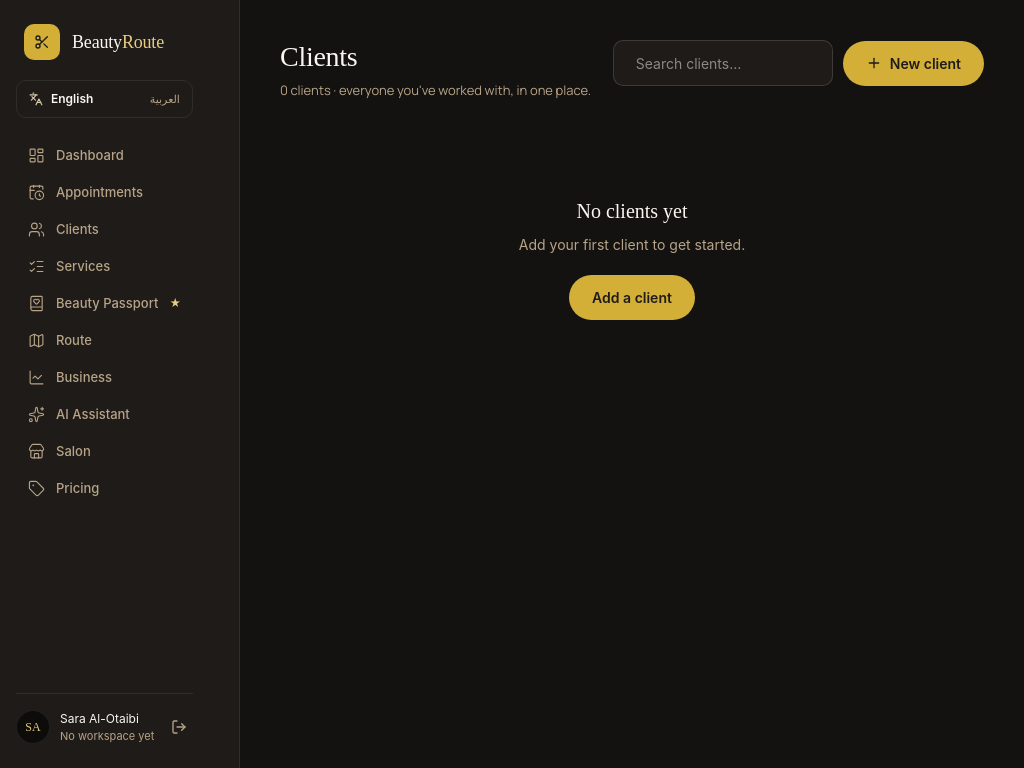
Clients page › requires a full name before saving a new client
The width and height of the screenshot is (1024, 768).
expect the text "No clients yet" is shown: met, box 576,196 -> 688,226
Click the button "New client" at x=913, y=63, box 843,40 -> 984,86
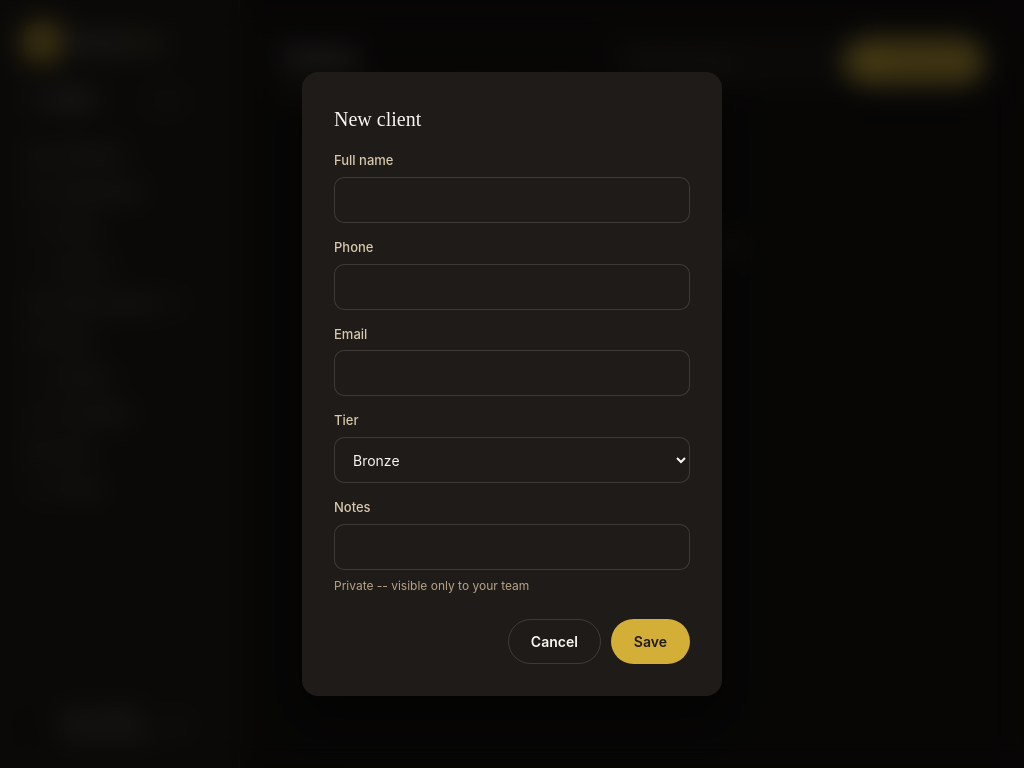
Click the button "Save" at x=650, y=642, box 611,619 -> 690,664
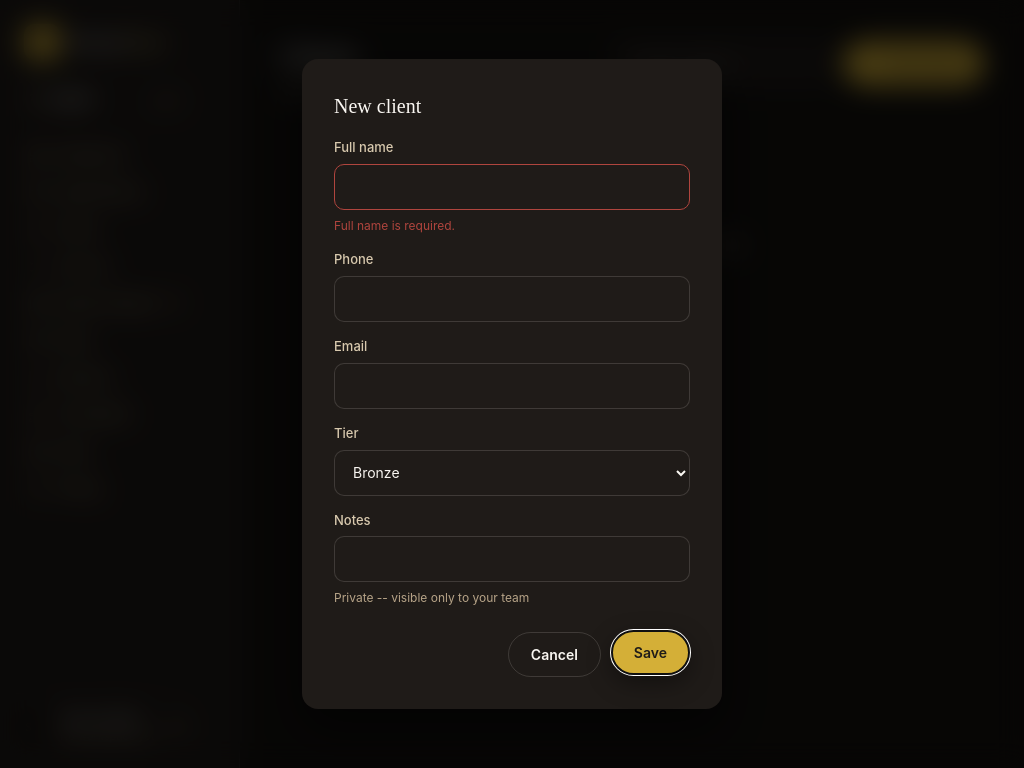
expect the text "Full name is required." is shown: met, box 334,218 -> 455,233
